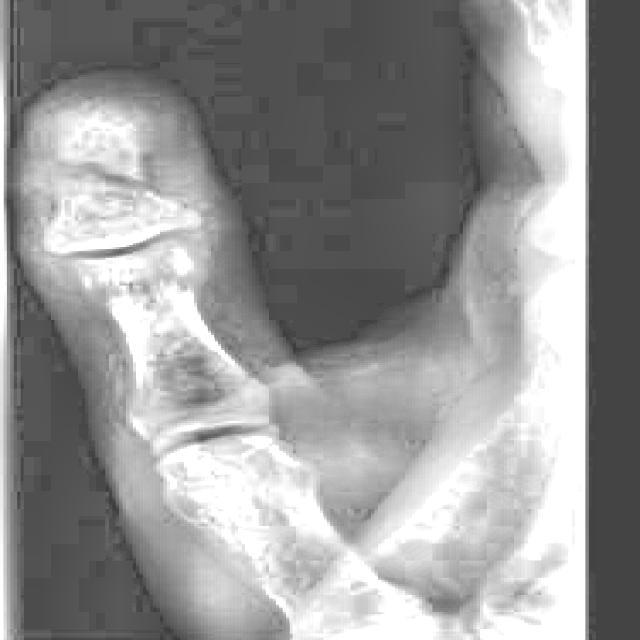fracture: (48, 152, 150, 194)
